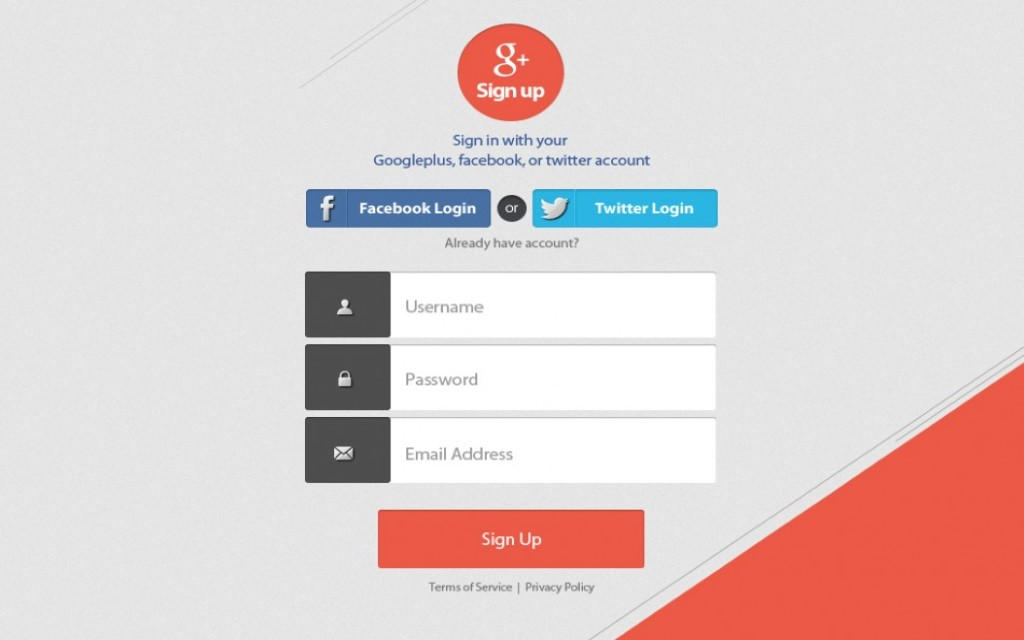button: (378, 507, 645, 569), (531, 190, 719, 229), (306, 189, 491, 227)
label_SignUp: (479, 524, 548, 553)
label_Username: (402, 294, 488, 322)
label_email: (399, 441, 523, 468)
label_password: (402, 368, 485, 390)
textbox: (391, 416, 718, 484), (391, 344, 715, 409), (391, 273, 715, 337)
textbox_Email: (391, 418, 719, 484)
textbox_Password: (391, 345, 715, 408)
textbox_username: (390, 272, 717, 338)
